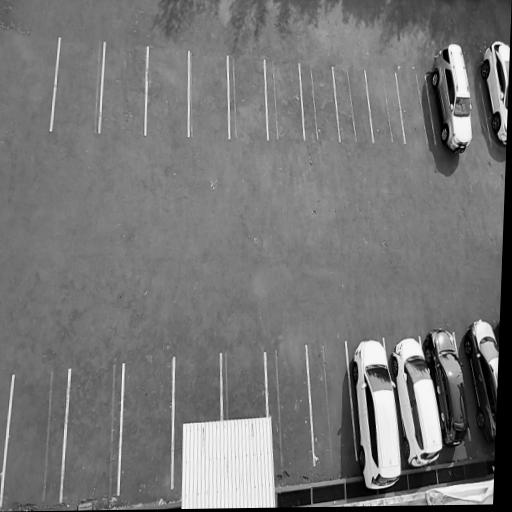Car: (350, 334, 406, 495), (388, 333, 449, 476), (422, 322, 476, 451), (427, 33, 474, 161), (459, 312, 497, 449), (475, 35, 510, 157)
Space Available: (0, 369, 68, 505), (60, 365, 124, 503), (118, 356, 173, 494), (306, 341, 357, 466), (269, 342, 314, 466), (50, 38, 104, 131), (99, 41, 148, 133), (145, 48, 189, 137), (173, 352, 223, 425), (188, 49, 229, 137), (299, 61, 340, 143), (221, 352, 268, 420), (228, 55, 266, 139), (265, 60, 304, 141), (333, 67, 373, 143), (365, 69, 405, 145), (396, 72, 436, 143), (469, 78, 493, 144)
